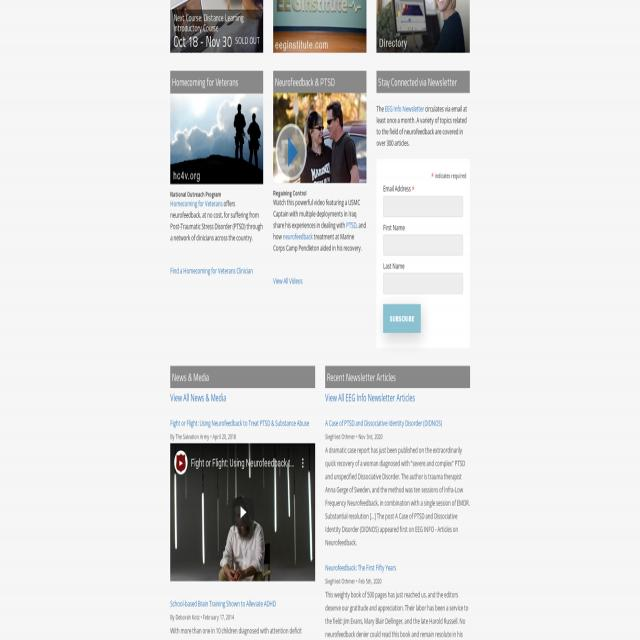button: (170, 442, 316, 582), (170, 93, 264, 184), (273, 93, 367, 183), (170, 0, 264, 53), (273, 0, 367, 53), (376, 0, 470, 53), (383, 304, 421, 333), (232, 500, 254, 524), (174, 450, 188, 475)
field: (383, 196, 463, 217), (383, 235, 463, 255), (383, 273, 463, 293)
